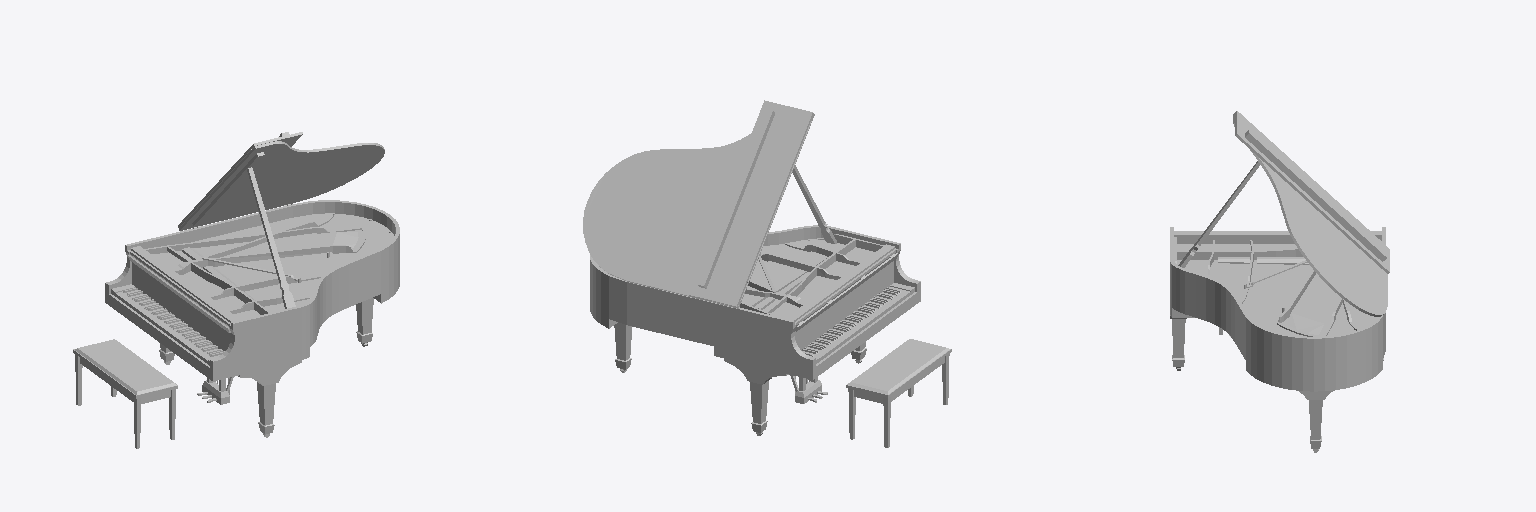
File: piano.obj
The picture shows the model from 3 angles: view 1: azimuth 30°, elevation 25°; view 2: azimuth 150°, elevation 25°; view 3: azimuth 270°, elevation 25°; orthographic projection.
Visible parts, largest first — view 1: _; view 2: _; view 3: _.
Boxes of the visible parts, <box> form: _: <box>73,132,399,448</box>; _: <box>583,100,951,447</box>; _: <box>1170,111,1389,452</box>.
Bounding box in the file's own units: 98.37 × 82.96 × 61.77.